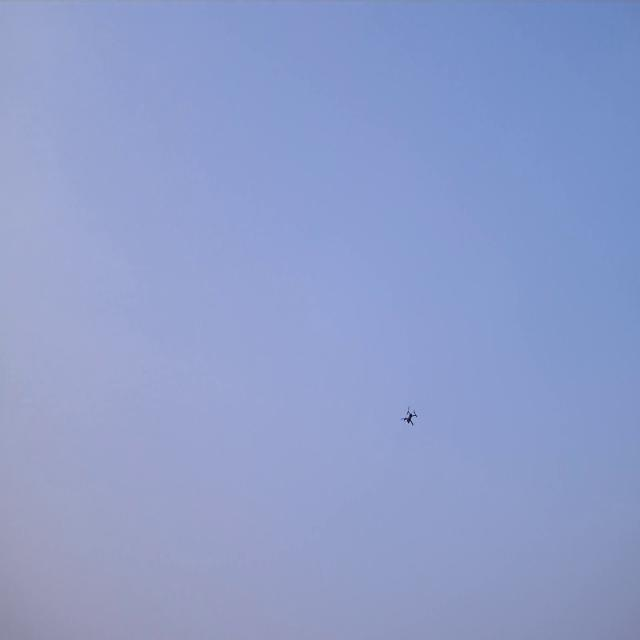UAV: (399, 406, 418, 426)
